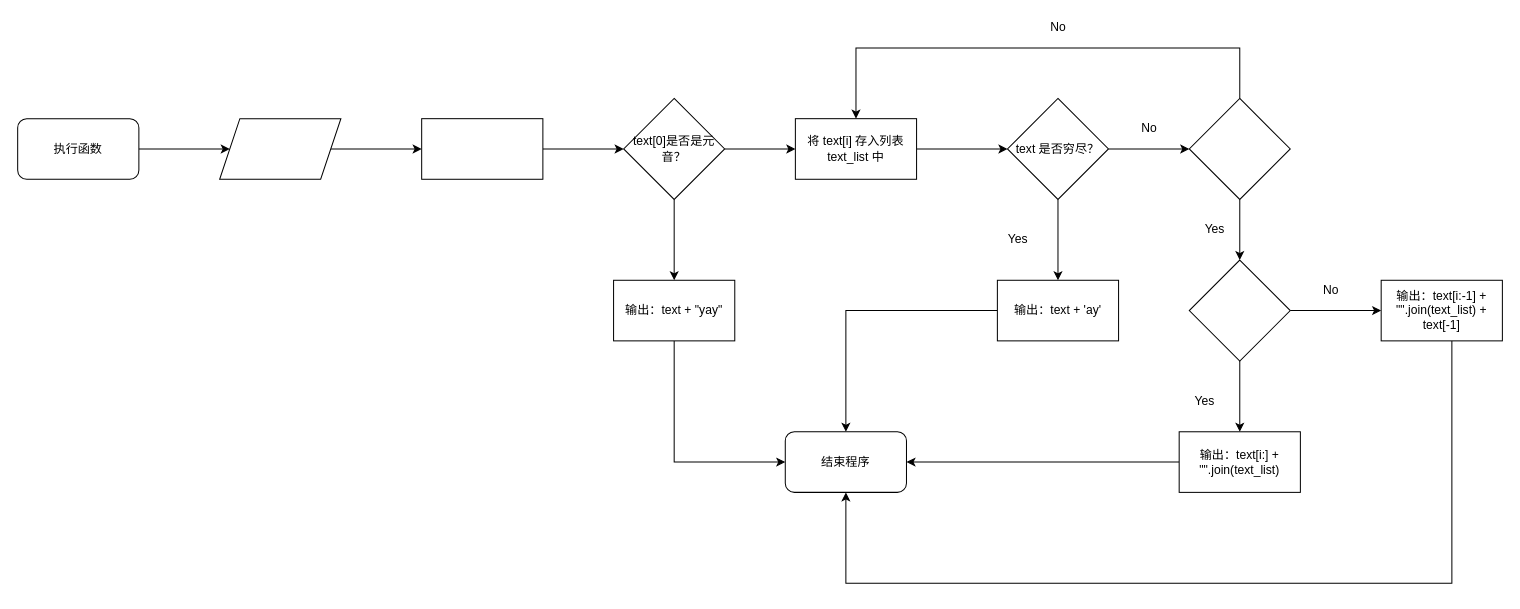
Some shapes in this 1520 by 609 pixel diagram are drawn without their labels. The centre of each missing label's shape, as x and y in pixels:
i = 0: the point at 482,148
text[-1]是否是英文字母？: the point at 1239,310
text[i+1] 是否是元音？: the point at 1239,148
传入字符串：text: the point at 280,148
